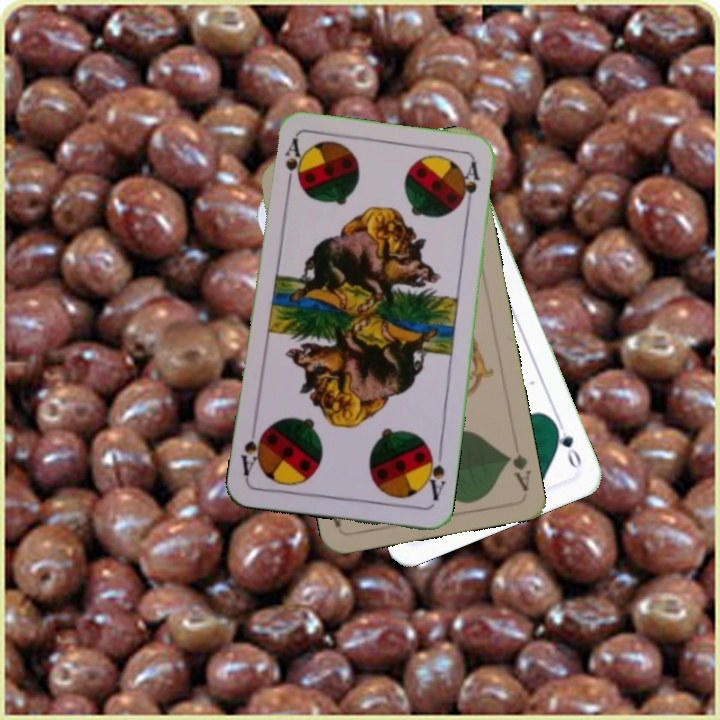GA: (501, 449, 533, 494)
GO: (549, 415, 585, 472)
SA: (420, 446, 448, 503), (281, 134, 305, 194)
